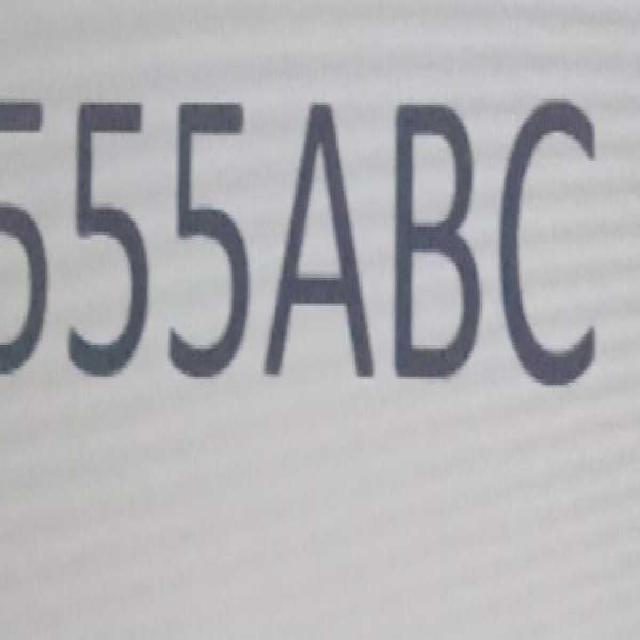license_plate: (0, 53, 606, 414)
